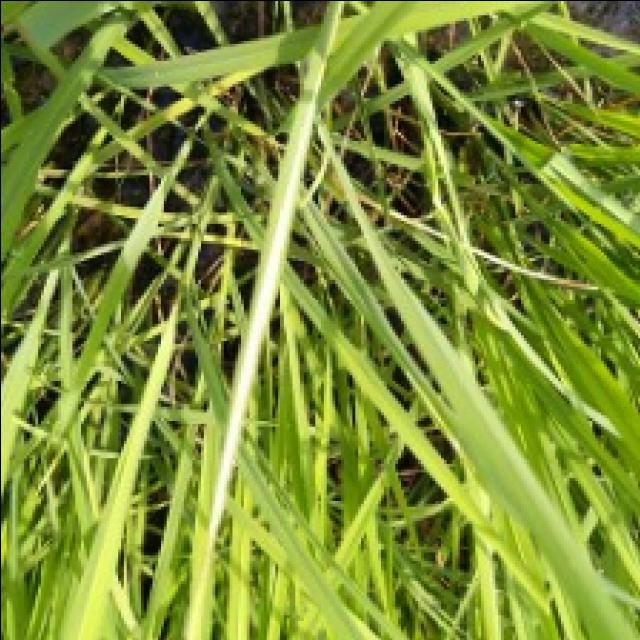Unhealthy: (208, 102, 313, 555)
